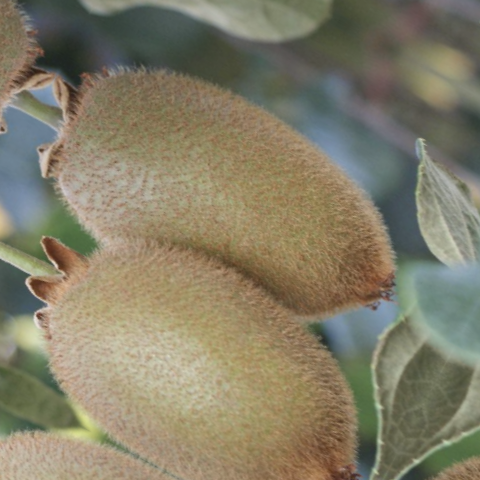kiwi: (0, 3, 447, 388), (0, 177, 422, 480)
